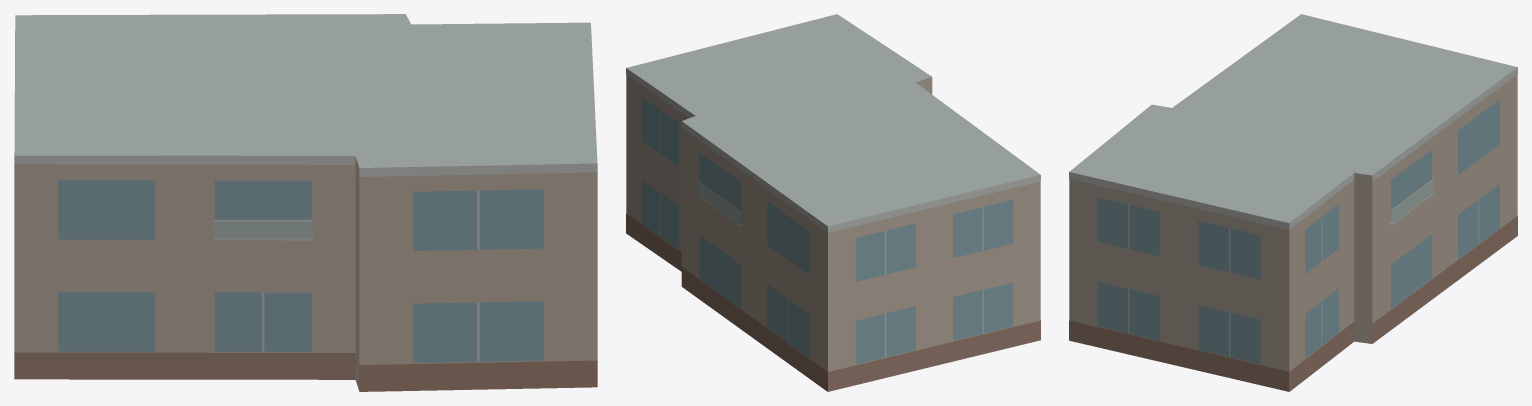
The model's file is survey-upis-32868028.glb.
3 views of the same model, side by side, from view 1: azimuth 30°, elevation 25°; view 2: azimuth 150°, elevation 25°; view 3: azimuth 270°, elevation 25° (orthographic). The views are drawn at different scales.
Visible parts, largest first — view 1: survey-upis-32868028.tmp; view 2: survey-upis-32868028.tmp; view 3: survey-upis-32868028.tmp.
Boxes of the visible parts, x1=… form: survey-upis-32868028.tmp: x1=14, y1=14, x2=597, y2=391; survey-upis-32868028.tmp: x1=626, y1=14, x2=1040, y2=391; survey-upis-32868028.tmp: x1=1069, y1=14, x2=1517, y2=391.
Size of the model in its own units: 16.23 by 6.1 by 14.71.
